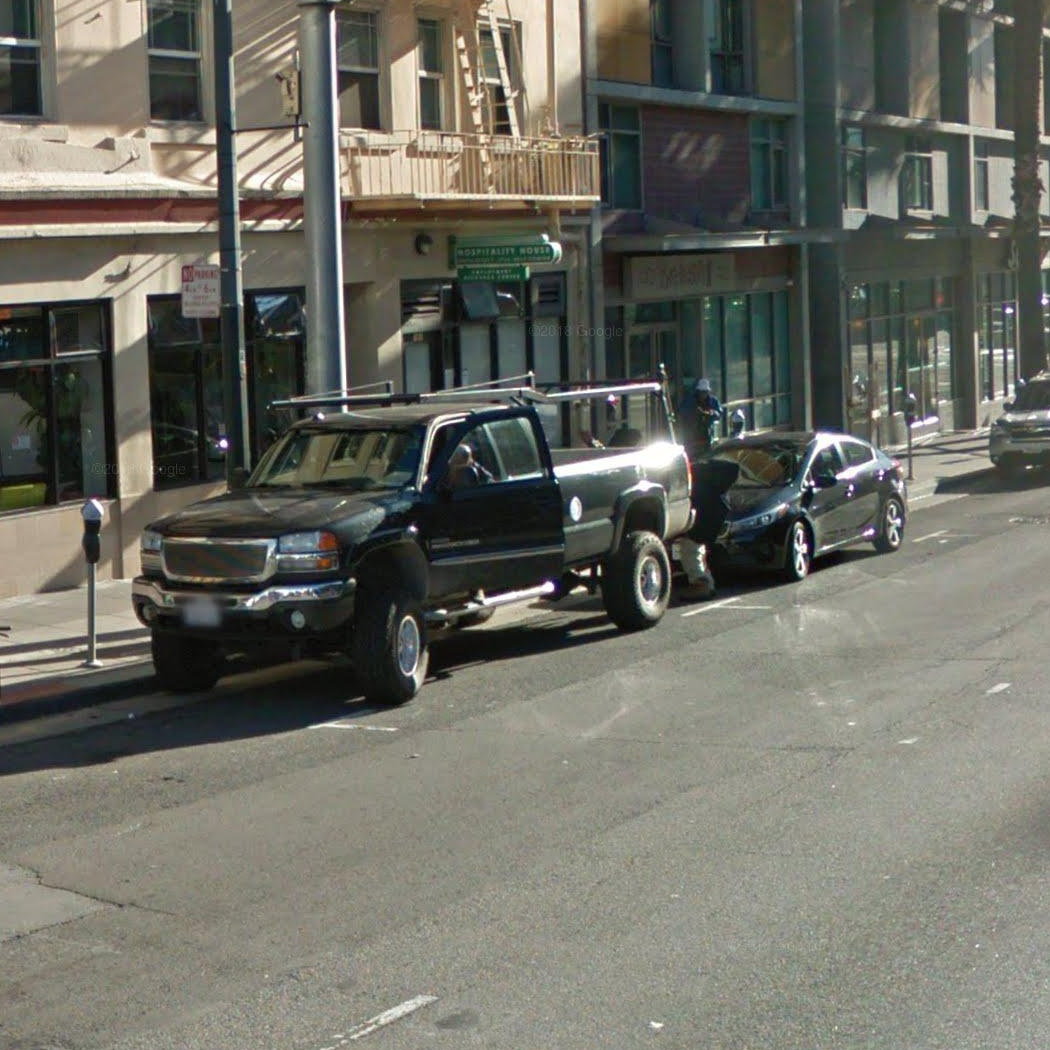No Parking: (180, 263, 222, 318)
